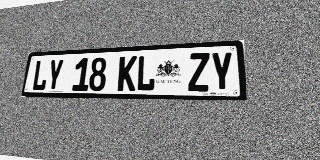1: (72, 58, 91, 91)
8: (88, 57, 108, 91)
K: (117, 56, 137, 91)
L: (136, 55, 156, 91), (31, 60, 50, 91)
Y: (210, 52, 234, 92), (46, 59, 64, 91)
Z: (188, 53, 210, 91)
